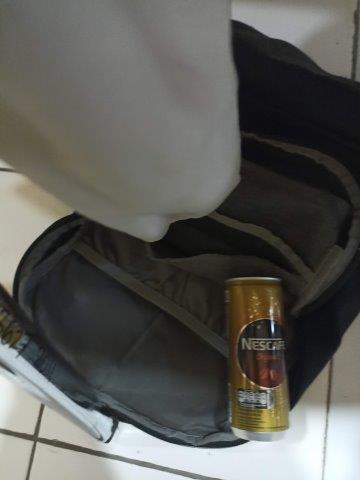kaleng: (225, 277, 290, 443)
